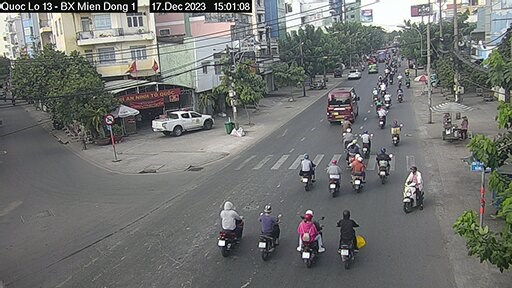car: (322, 73, 371, 128), (147, 104, 208, 136)
motorbike: (209, 200, 254, 255), (251, 200, 283, 257), (335, 202, 360, 261), (298, 206, 322, 260), (404, 163, 420, 216), (350, 153, 369, 194), (329, 159, 346, 200), (374, 148, 393, 183), (341, 130, 356, 157), (300, 155, 310, 194), (362, 124, 373, 142)
